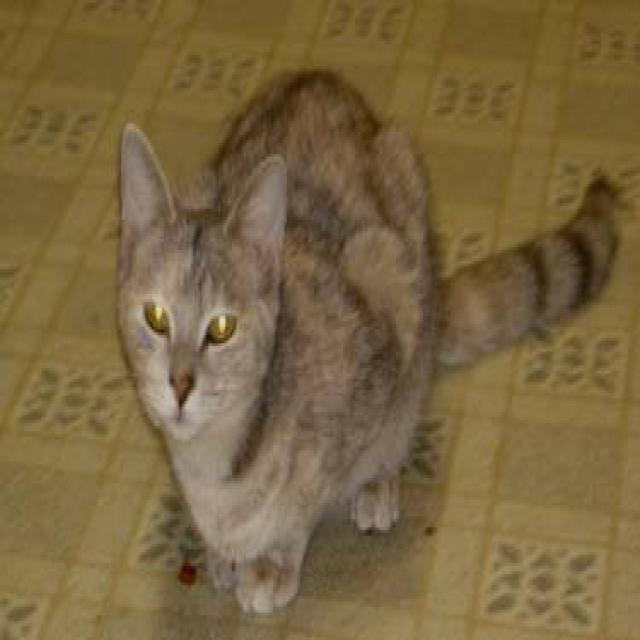Kucing: (68, 59, 592, 602)
